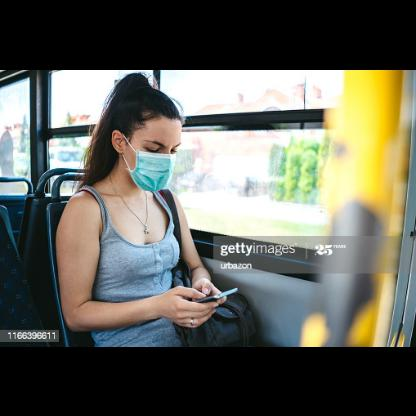Surgical Mask: (113, 120, 177, 186)
